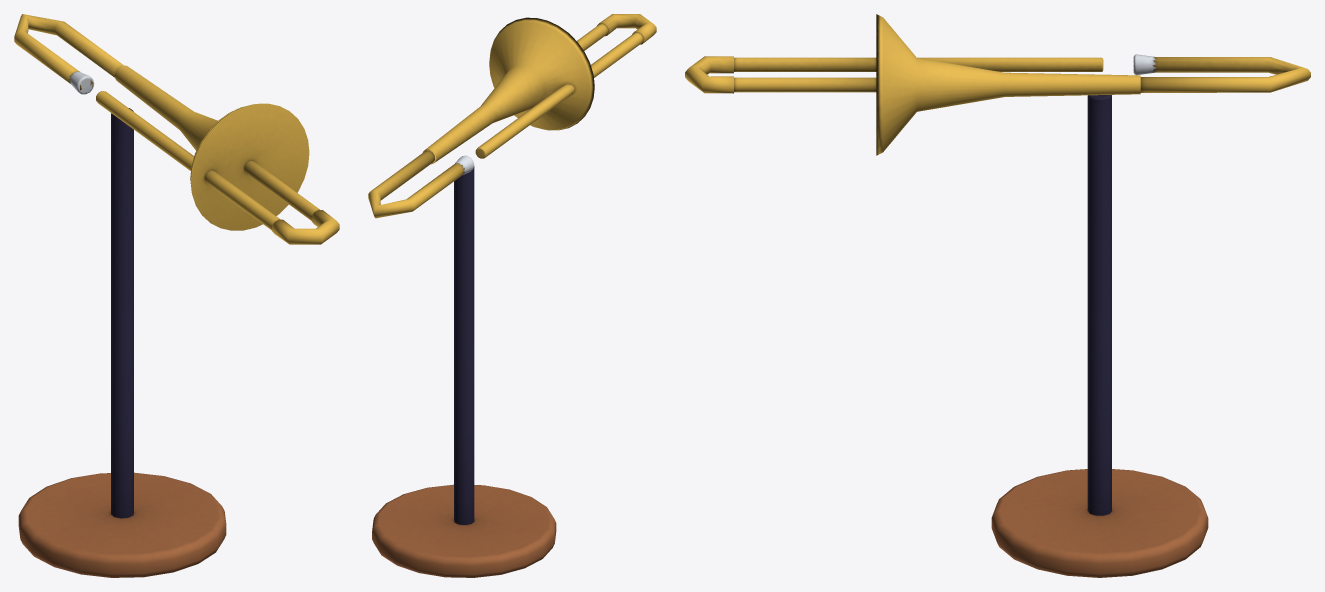
File: Trombone.fbx
The picture shows the model from 3 angles, left to right: view 1: azimuth 30°, elevation 25°; view 2: azimuth 150°, elevation 25°; view 3: azimuth 270°, elevation 25°; orthographic projection. The views are drawn at different scales.
Visible parts, largest first — view 1: Trombone_Body, Slide_Mesh; view 2: Trombone_Body, Slide_Mesh; view 3: Trombone_Body, Slide_Mesh.
Part boxes in pixels (left/top/right/bottom): Trombone_Body: left=14, top=14, right=309, bottom=577; Slide_Mesh: left=96, top=91, right=339, bottom=244; Trombone_Body: left=368, top=17, right=594, bottom=577; Slide_Mesh: left=475, top=14, right=656, bottom=158; Trombone_Body: left=876, top=14, right=1310, bottom=577; Slide_Mesh: left=685, top=56, right=1103, bottom=93.
Size of the model in its own units: 0.32 by 0.8544 by 0.9238.
